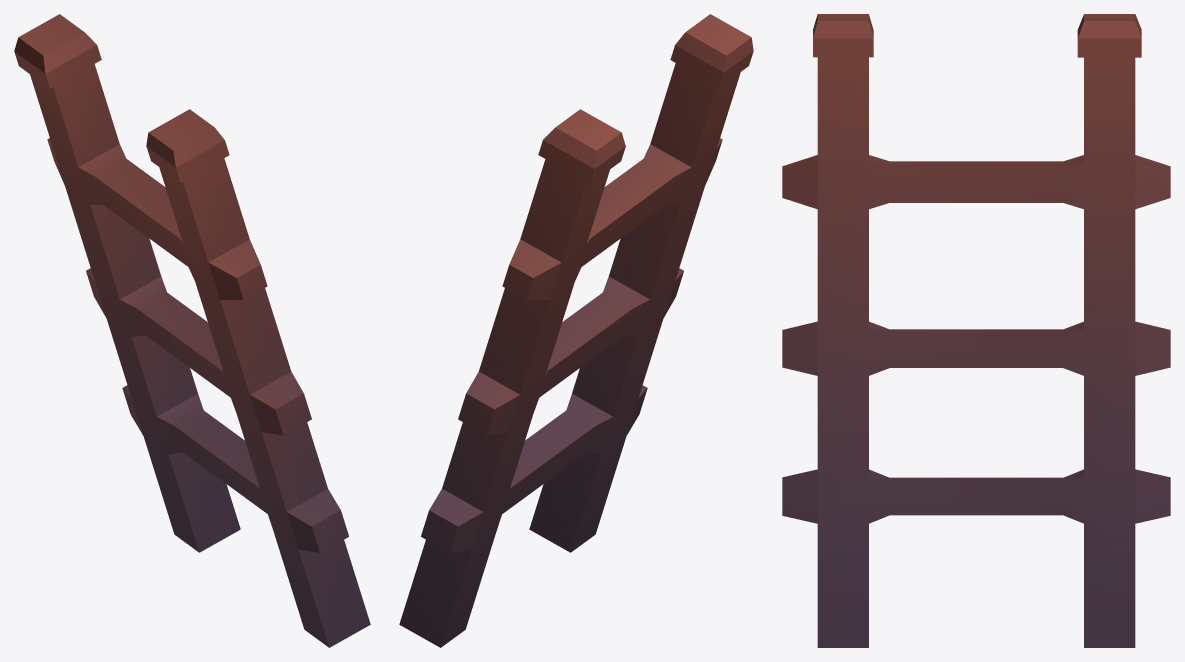
File: ladder.fbx
3 views of the same model, side by side, from view 1: azimuth 30°, elevation 25°; view 2: azimuth 150°, elevation 25°; view 3: azimuth 270°, elevation 25° (orthographic). The views are drawn at different scales.
Visible parts, largest first — view 1: pCube32; view 2: pCube32; view 3: pCube32.
Part boxes in pixels (bbox=[...]): pCube32: bbox=[14, 14, 370, 647]; pCube32: bbox=[399, 14, 753, 647]; pCube32: bbox=[782, 14, 1170, 647].
Size of the model in its own units: 0.4585 by 1.21 by 0.7582.
